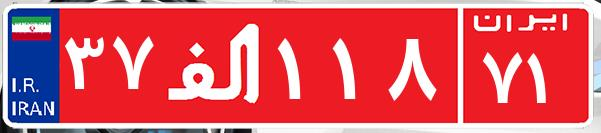1: (273, 28, 330, 110), (330, 28, 385, 110), (525, 38, 570, 115)
3: (57, 26, 110, 107)
7: (475, 38, 525, 113), (110, 28, 158, 105)
8: (385, 28, 445, 110)
الف: (158, 15, 273, 115)
